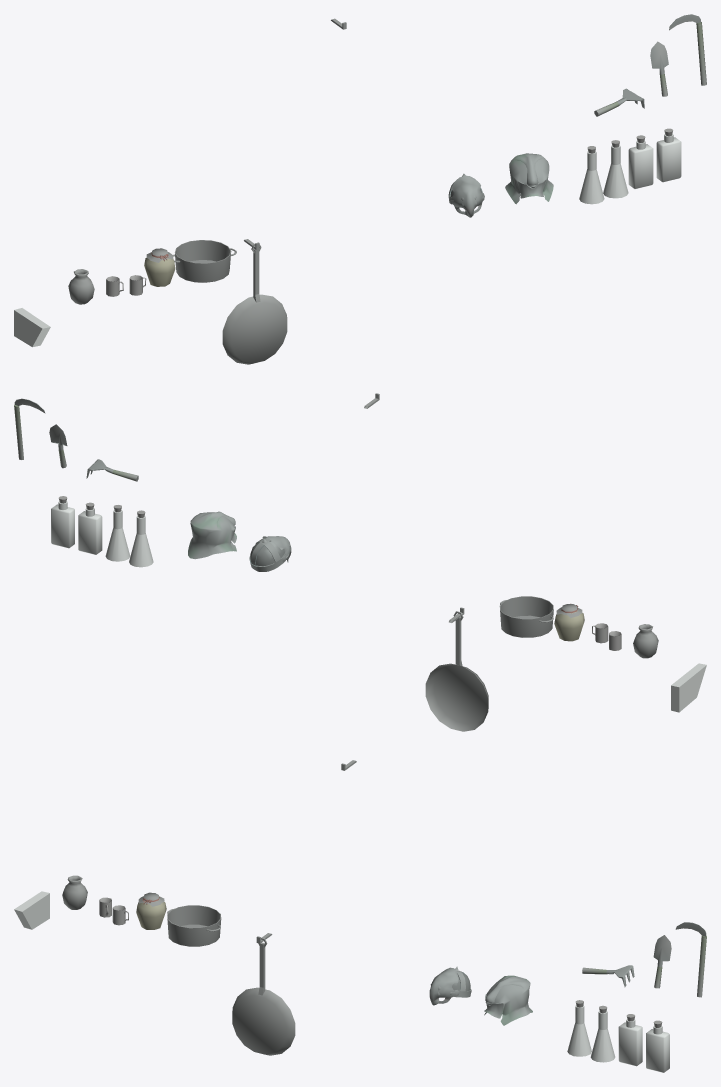
3 views of the same model, one above another, from view 1: azimuth 30°, elevation 25°; view 2: azimuth 150°, elevation 25°; view 3: azimuth 330°, elevation 25° (orthographic). The views are drawn at different scales.
Parts seen in each view (by area): view 1: G:\FFXIV-MapTools\exports\s1f3\bg\ffxiv\sea_s1\fld\s1f3\bgpa (×5); view 2: G:\FFXIV-MapTools\exports\s1f3\bg\ffxiv\sea_s1\fld\s1f3\bgpa (×5); view 3: G:\FFXIV-MapTools\exports\s1f3\bg\ffxiv\sea_s1\fld\s1f3\bgpa (×5).
Boxes of the visible parts, x1,y1,x2,y2 form: G:\FFXIV-MapTools\exports\s1f3\bg\ffxiv\sea_s1\fld\s1f3\bgpa (×5): (14, 14, 706, 364); G:\FFXIV-MapTools\exports\s1f3\bg\ffxiv\sea_s1\fld\s1f3\bgpa (×5): (14, 393, 706, 731); G:\FFXIV-MapTools\exports\s1f3\bg\ffxiv\sea_s1\fld\s1f3\bgpa (×5): (14, 760, 706, 1072).
Size of the model in its own units: 6.35 by 2.85 by 0.5391.
